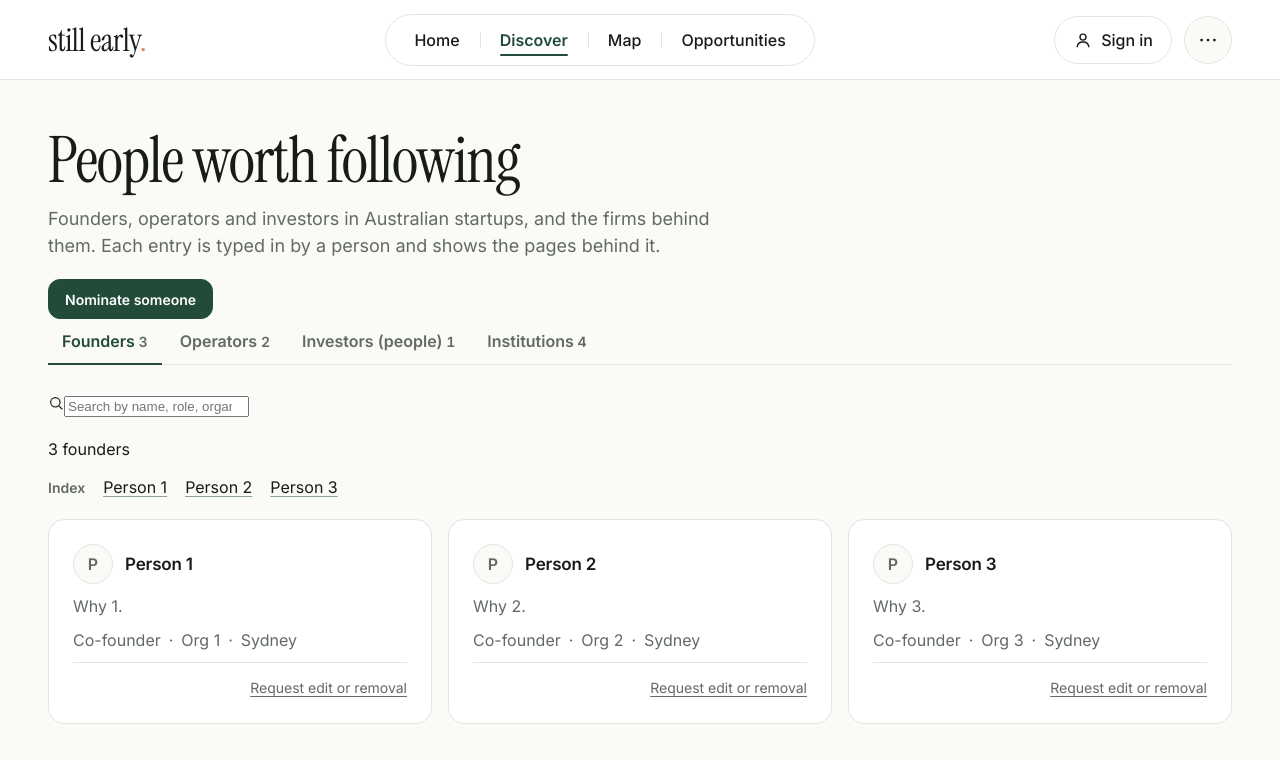
Test: the tabs › asks for the other role when another tab is chosen, and for the firms on Institutions
Expected: the heading "Person 1" is shown, left=125, top=554, right=193, bottom=574
Click the tab "Operators 2" at (225, 342), box left=166, top=319, right=284, bottom=365
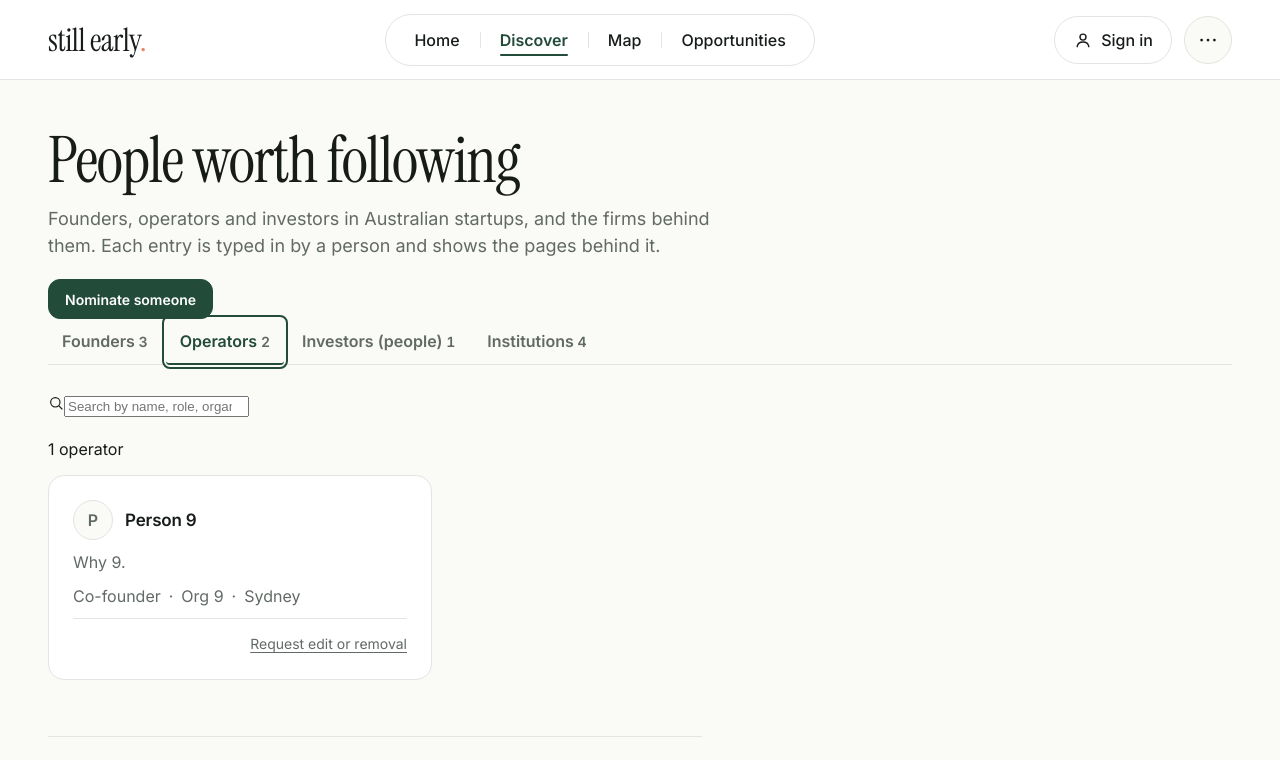
Now the heading "Person 9" is shown, box left=125, top=510, right=196, bottom=530
Click the tab "Institutions 4" at (537, 342), box left=473, top=319, right=601, bottom=365
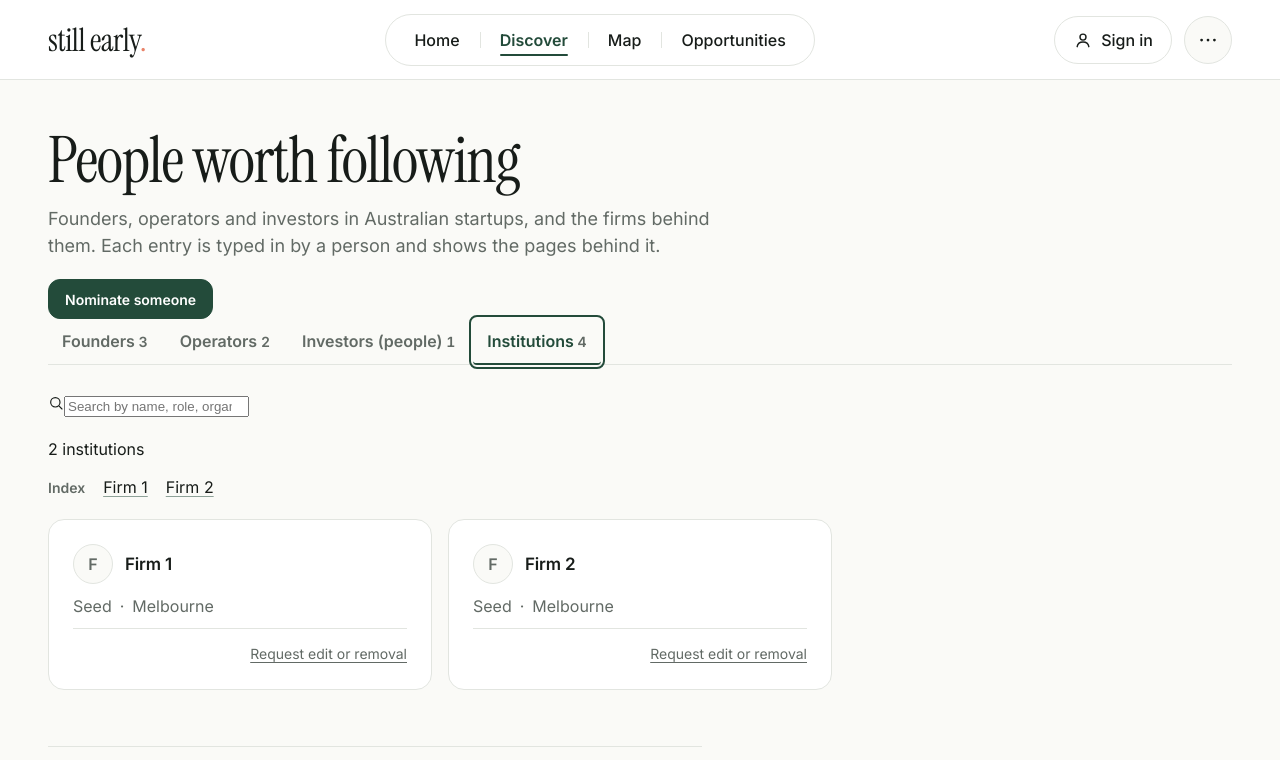
Now the heading "Firm 1" is shown, box left=125, top=554, right=172, bottom=574
